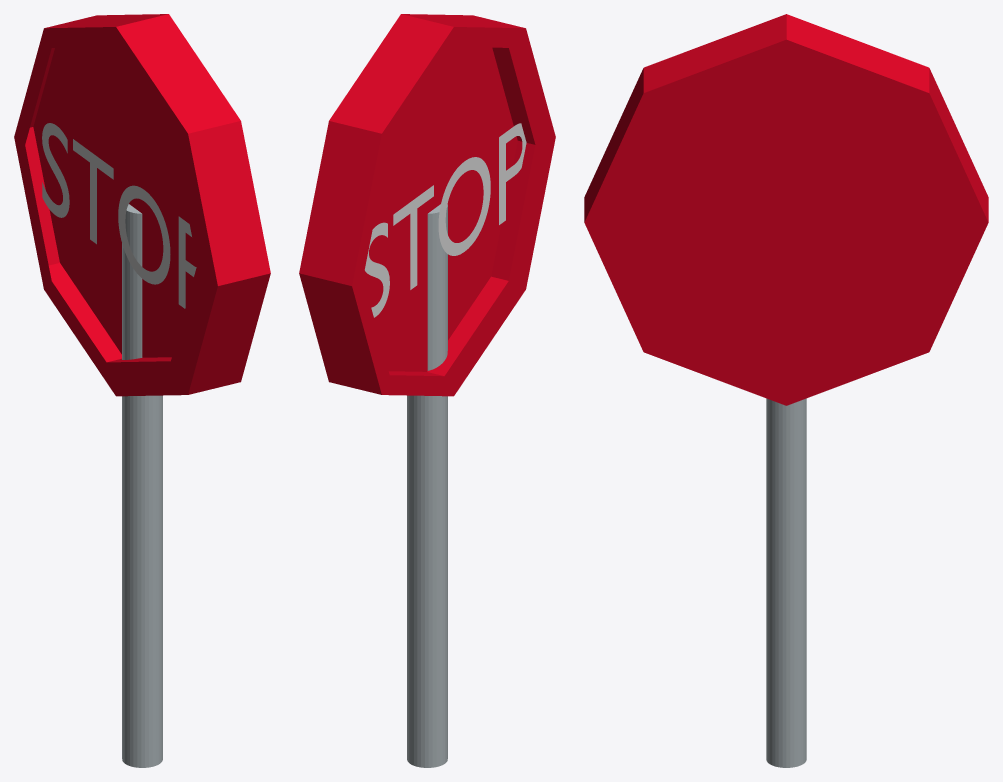
File: StopSign.fbx
3 views of the same model, side by side, from view 1: azimuth 30°, elevation 25°; view 2: azimuth 150°, elevation 25°; view 3: azimuth 270°, elevation 25° (orthographic).
Visible parts, largest first — view 1: Cylinder, Text; view 2: Cylinder, Text; view 3: Cylinder.
Boxes of the visible parts, box(x1,y1,x2,y2) form: Cylinder: box(14, 14, 270, 767); Text: box(42, 123, 196, 308); Cylinder: box(299, 14, 555, 767); Text: box(364, 123, 526, 317); Cylinder: box(584, 14, 988, 767).
Bounding box in the file's own units: 3 × 40 × 20.
